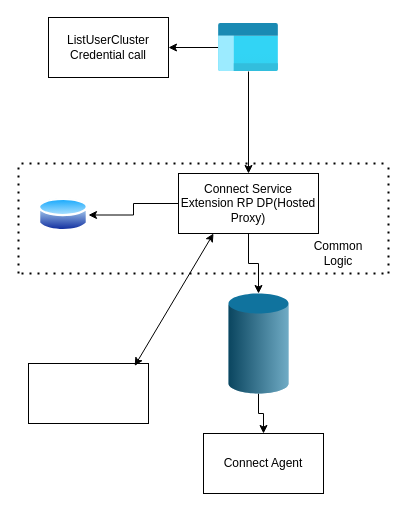
Image size: 407x511. Some labels were removed from this diagram. The centre of each missing label's shape, as x and y in pixels:
Guest Notification Service: the point at 88,393
Portal: the point at 248,47
